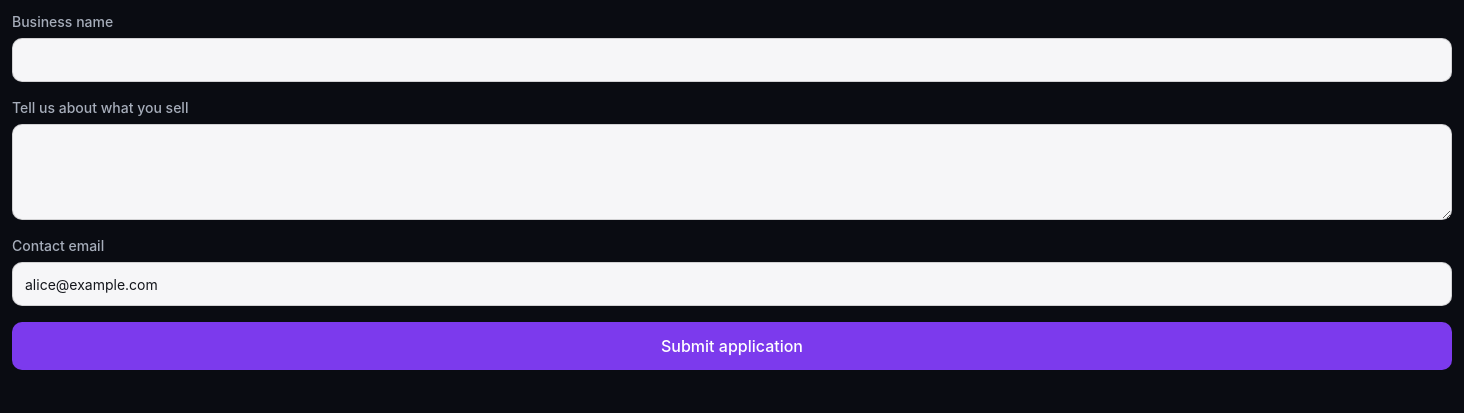
SellerApplicationForm › rejects a malformed contact email
The width and height of the screenshot is (1464, 413).
Type "Alice Fine Art" into the field labelled "Business name" at [732, 60], box [12,38,1452,82]
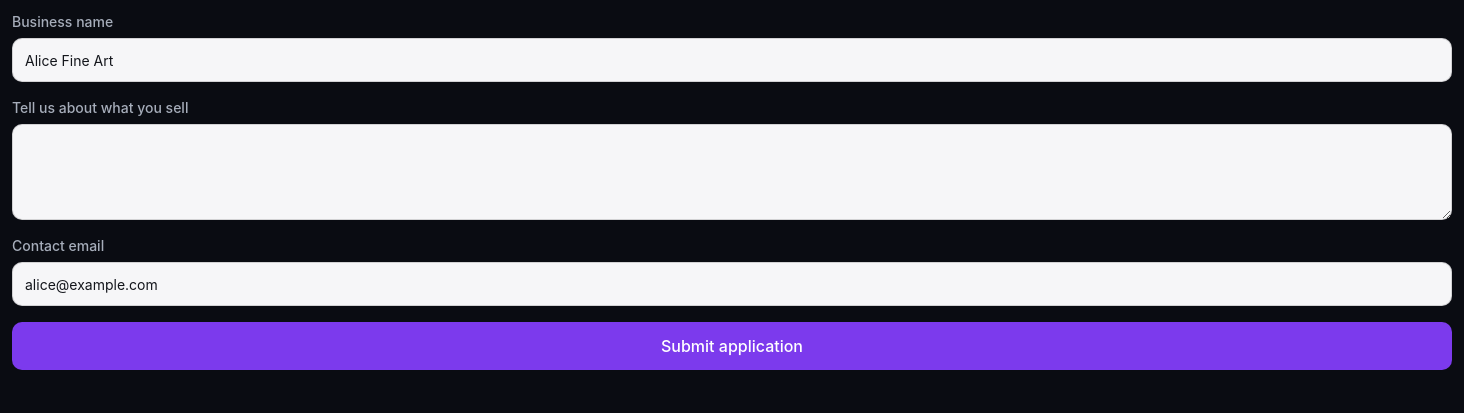
Type "Contemporary oil landscapes." into the text box labelled "Tell us about what you sell" at [732, 172], box [12,124,1452,220]
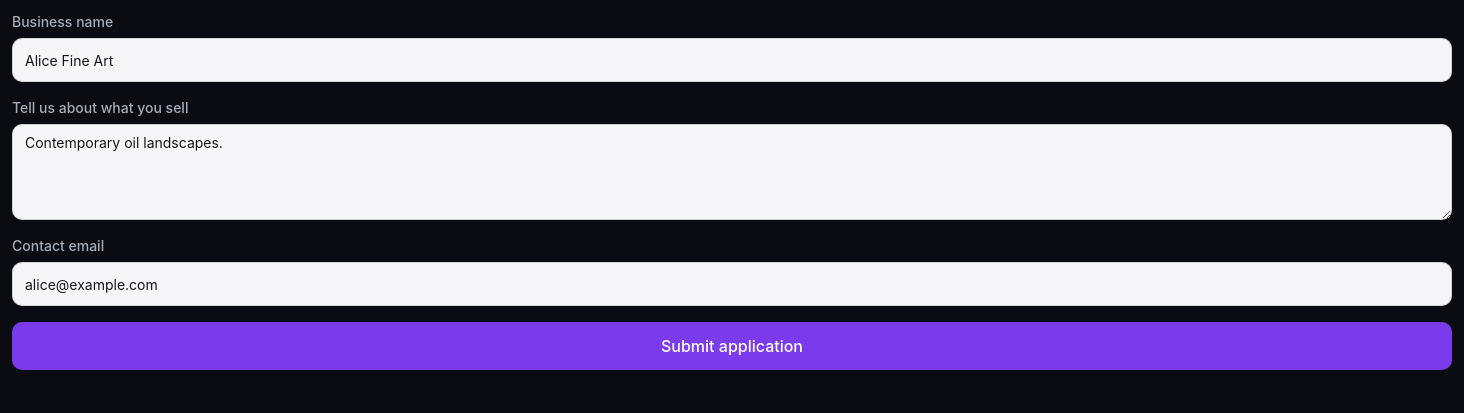
Replace the text in the field labelled "Contact email" with "not-an-email" at [732, 284], box [12,262,1452,306]
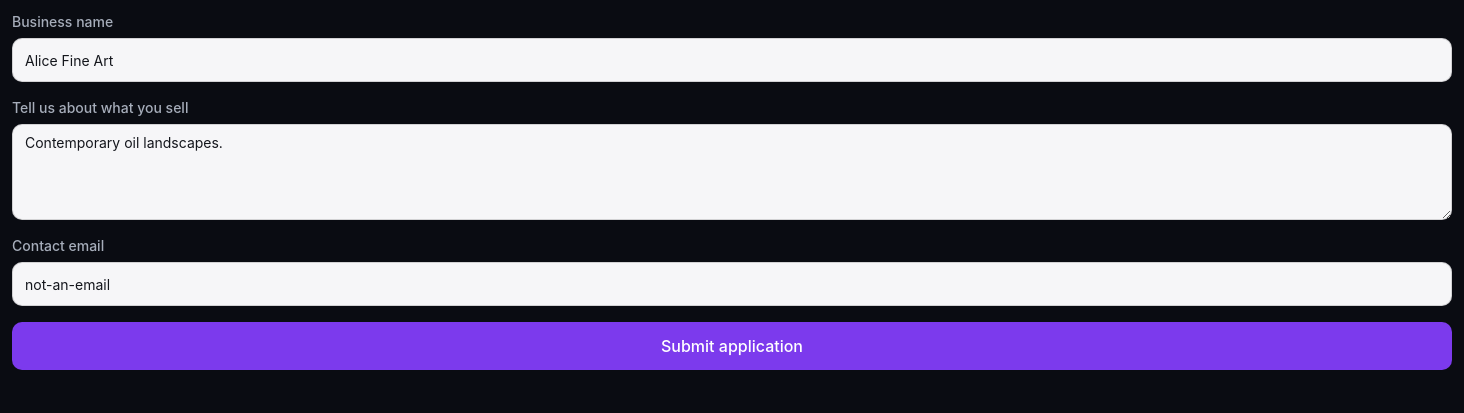
Click the button "Submit application" at [732, 346], box [12,322,1452,370]
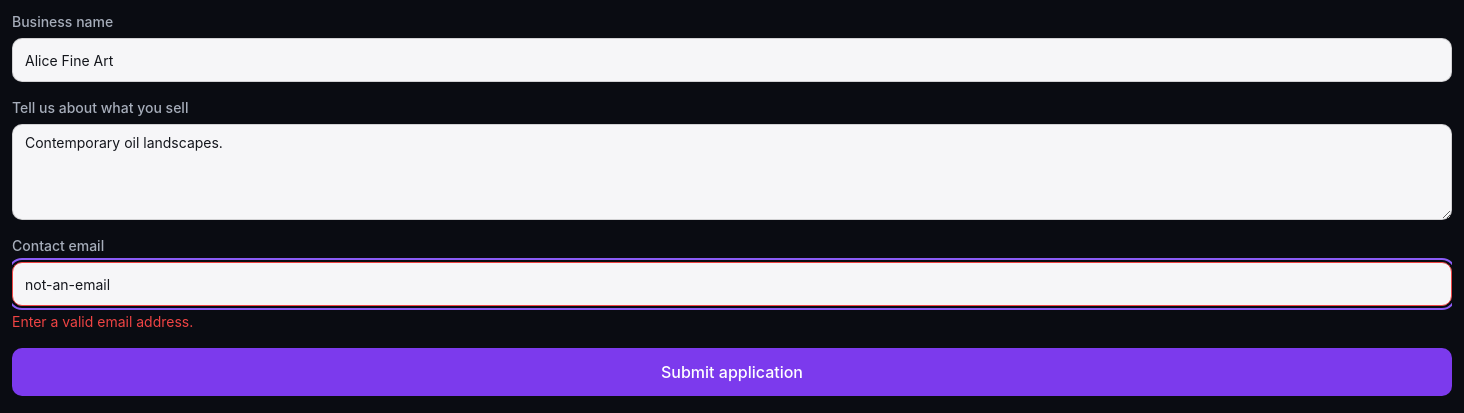
Check: the text "Enter a valid email address." is shown, box [12,313,193,330]
